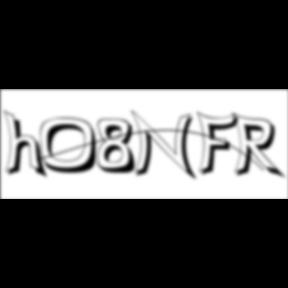8: (98, 117, 142, 176)
F: (197, 110, 245, 178)
N: (131, 109, 201, 183)
O: (40, 117, 106, 176)
R: (232, 112, 288, 182)
h: (3, 108, 50, 182)
